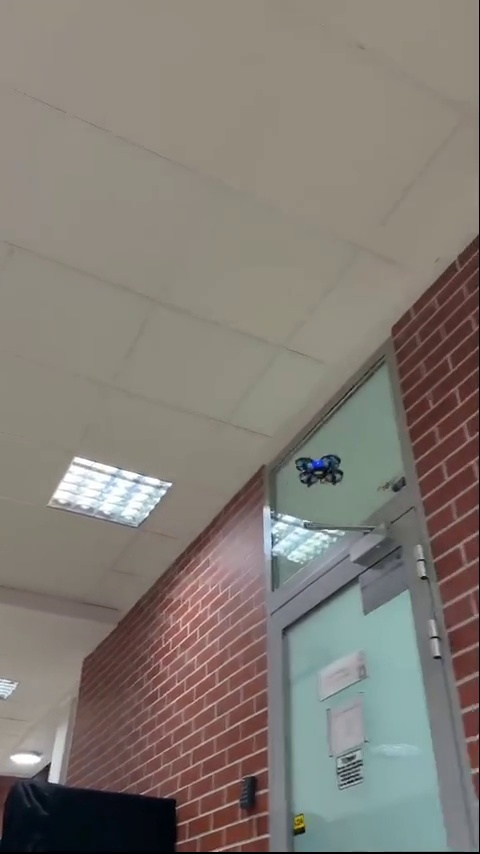drone: (295, 449, 343, 484)
